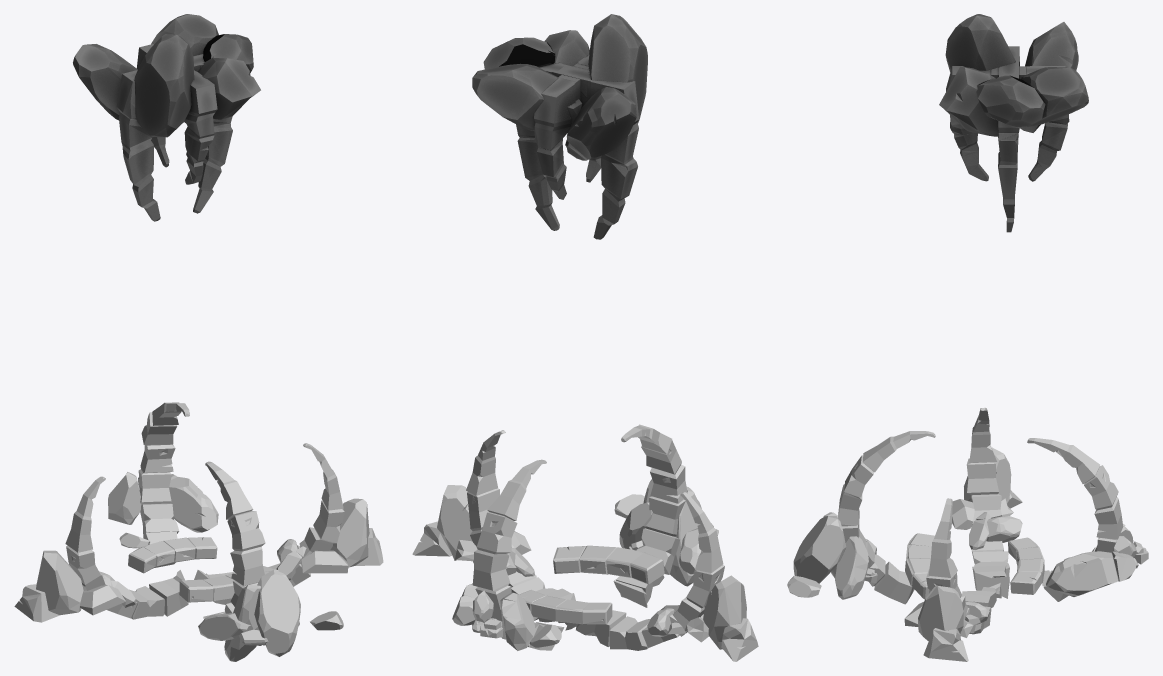
The model's file is portail.fbx.
3 views of the same model, side by side, from view 1: azimuth 30°, elevation 25°; view 2: azimuth 150°, elevation 25°; view 3: azimuth 270°, elevation 25° (orthographic). The views are drawn at different scales.
Parts seen in each view (by area): view 1: portail haut, colone 4, colone 1, colone 2, colone 3, sol arc; view 2: portail haut, colone 1, colone 4, colone 2, colone 3, sol arc; view 3: portail haut, colone 4, colone 1, colone 2, colone 3, sol arc.
Boxes of the visible parts, x1=… form: portail haut: x1=73, y1=14, x2=260, y2=221; colone 4: x1=198, y1=461, x2=343, y2=661; colone 1: x1=14, y1=476, x2=188, y2=622; colone 2: x1=108, y1=402, x2=218, y2=568; colone 3: x1=194, y1=443, x2=383, y2=604; sol arc: x1=128, y1=537, x2=278, y2=602; portail haut: x1=472, y1=14, x2=647, y2=239; colone 1: x1=565, y1=492, x2=758, y2=661; colone 4: x1=613, y1=424, x2=718, y2=607; colone 2: x1=452, y1=459, x2=564, y2=650; colone 3: x1=412, y1=430, x2=575, y2=625; sol arc: x1=519, y1=545, x2=664, y2=624; portail haut: x1=939, y1=14, x2=1088, y2=232; colone 4: x1=787, y1=431, x2=935, y2=604; colone 1: x1=952, y1=407, x2=1022, y2=598; colone 2: x1=1027, y1=438, x2=1148, y2=601; colone 3: x1=904, y1=498, x2=1001, y2=661; sol arc: x1=905, y1=533, x2=1044, y2=599.
Size of the model in its own units: 5228 by 8748 by 4955.
